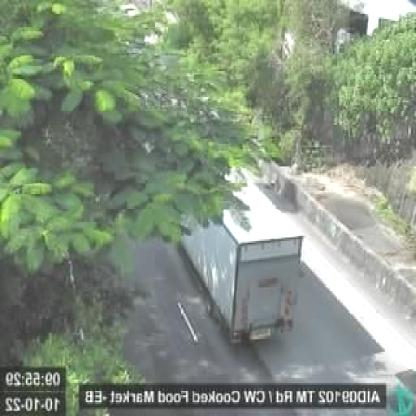Truck: (174, 162, 304, 344)
